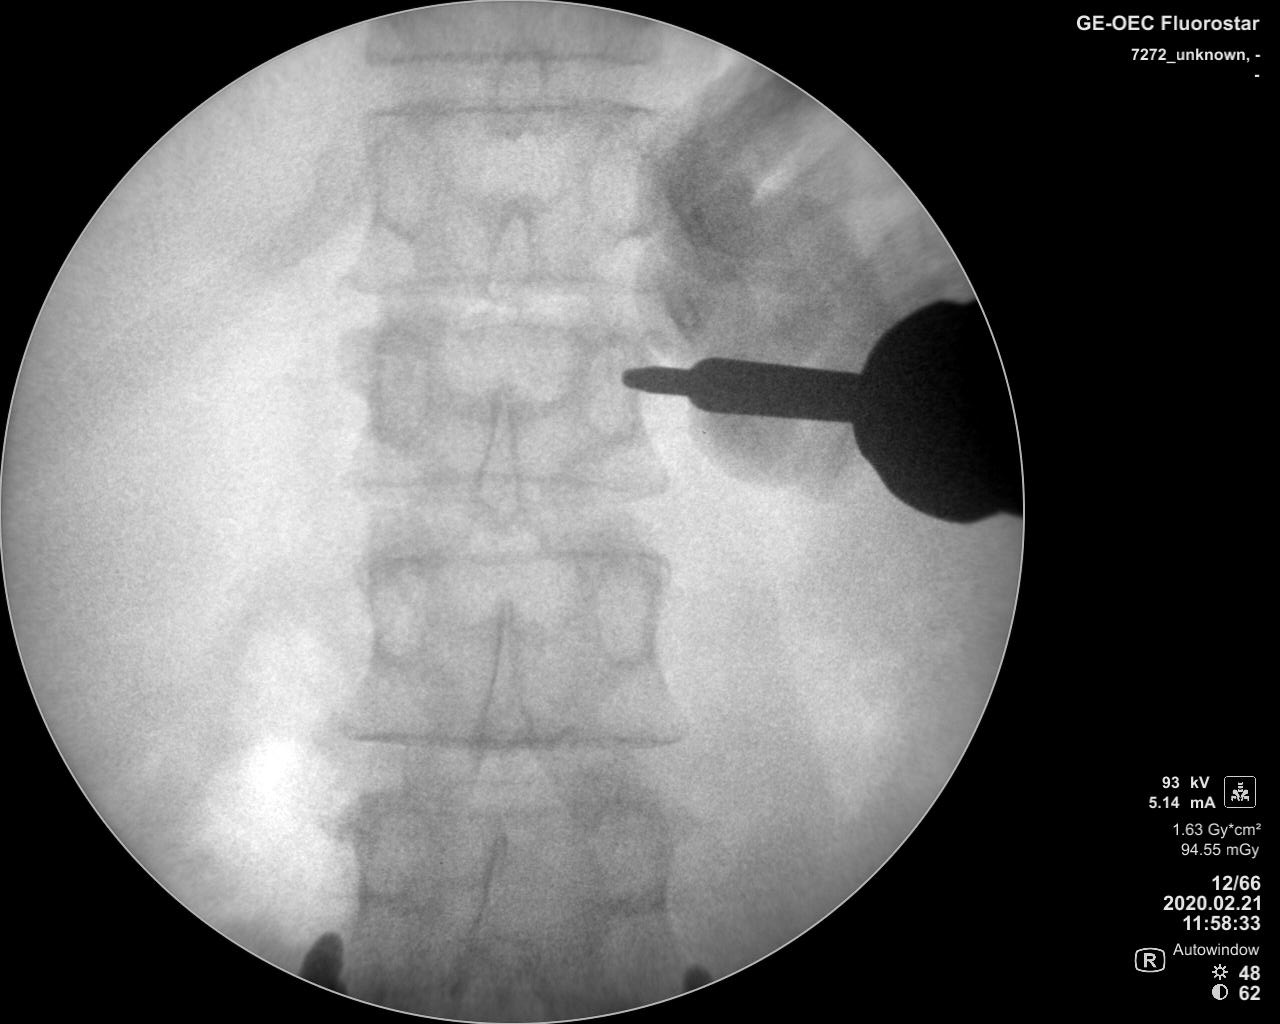eyes: (356, 114, 440, 248), (585, 789, 677, 906), (581, 556, 670, 667), (343, 795, 429, 903), (576, 121, 654, 239), (355, 550, 437, 662), (359, 334, 436, 443), (576, 340, 644, 445)
line: (315, 460, 681, 511), (315, 715, 693, 754), (347, 85, 670, 127), (328, 540, 693, 577), (315, 271, 674, 303), (355, 40, 665, 73)
nose: (451, 827, 525, 985), (469, 595, 533, 766), (472, 374, 525, 528), (489, 28, 551, 152), (474, 197, 540, 311)
